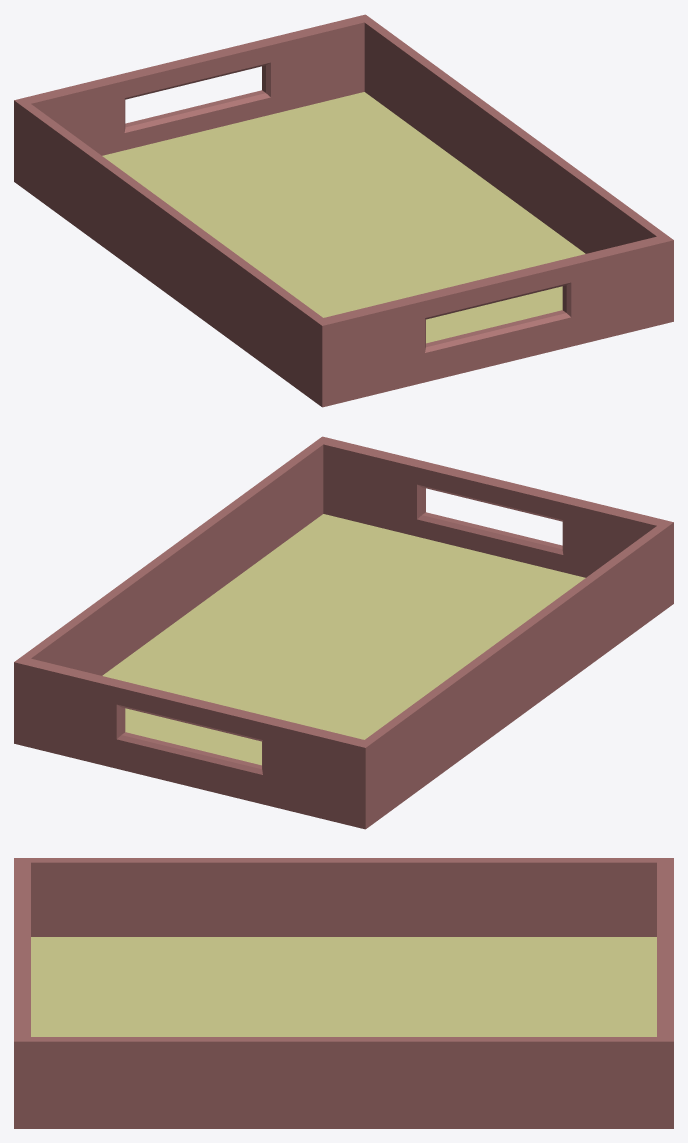
File: PaperTray 1.fbx
3 views of the same model, one above another, from view 1: azimuth 30°, elevation 25°; view 2: azimuth 150°, elevation 25°; view 3: azimuth 270°, elevation 25° (orthographic). The views are drawn at different scales.
Visible parts, largest first — view 1: Paper_Tray; view 2: Paper_Tray; view 3: Paper_Tray.
Part boxes in pixels (left/top/right/bottom): Paper_Tray: left=14, top=14, right=673, bottom=407; Paper_Tray: left=14, top=436, right=673, bottom=829; Paper_Tray: left=14, top=858, right=673, bottom=1128.
Bounding box in the file's own units: 0.2511 × 0.0556 × 0.3813.
